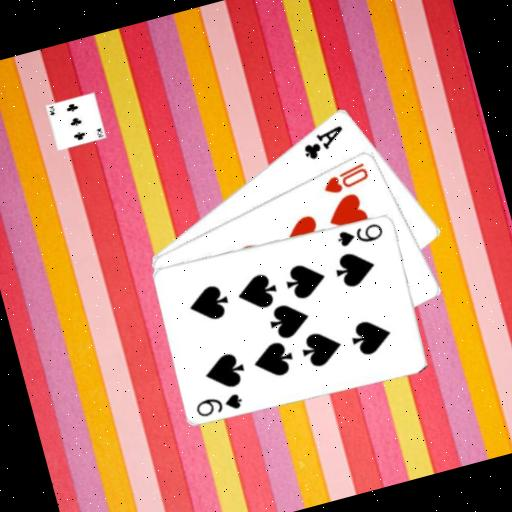10H: (316, 158, 372, 198)
9S: (333, 217, 387, 251), (191, 387, 245, 421)
AC: (296, 121, 350, 164)
